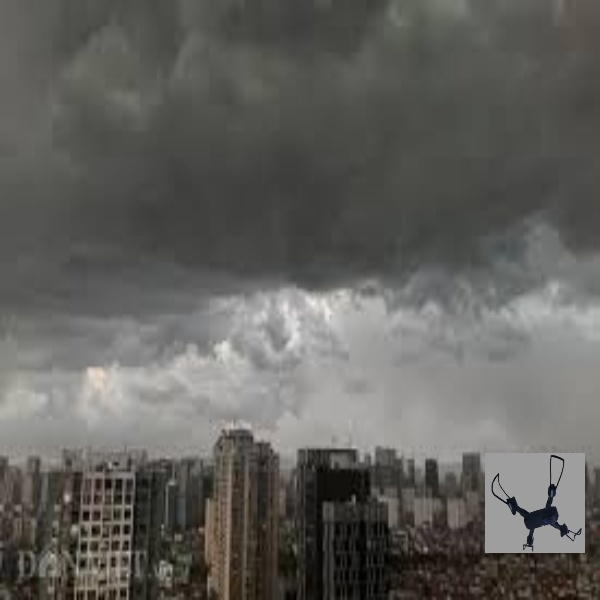drone: (488, 450, 583, 549)
